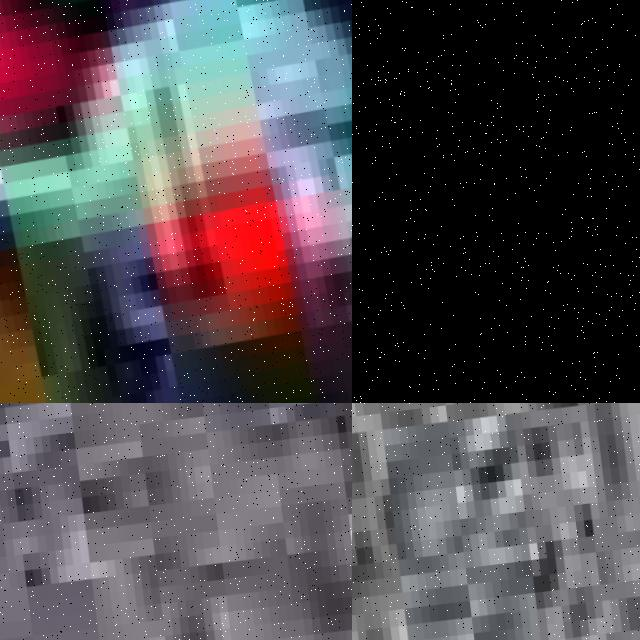0: (0, 0, 352, 403)
drone: (352, 0, 640, 403)
